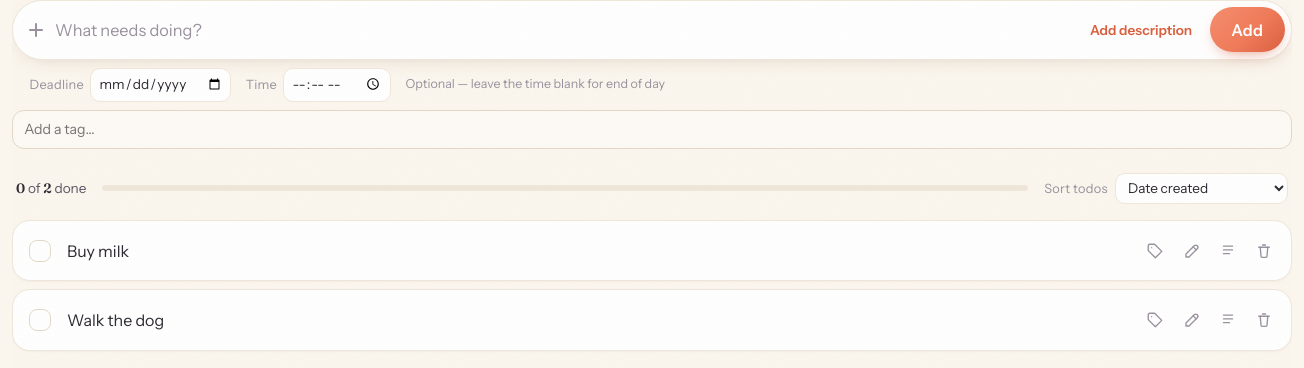
it: TodoApp delete › removes the todo after the API confirms
What coordinates should you click on to do the following:
click the button named "Delete \"Buy milk\""
I would click on:
 (1264, 251)
Its box is [1247,234,1281,268].
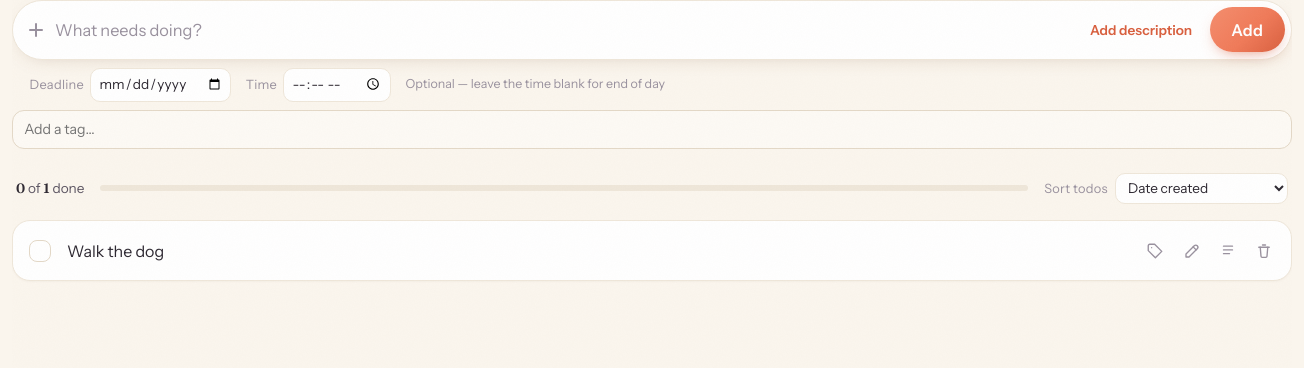
Expected: the text "Walk the dog" is shown, [67,239,164,263]
Now the text "Buy milk" is gone
